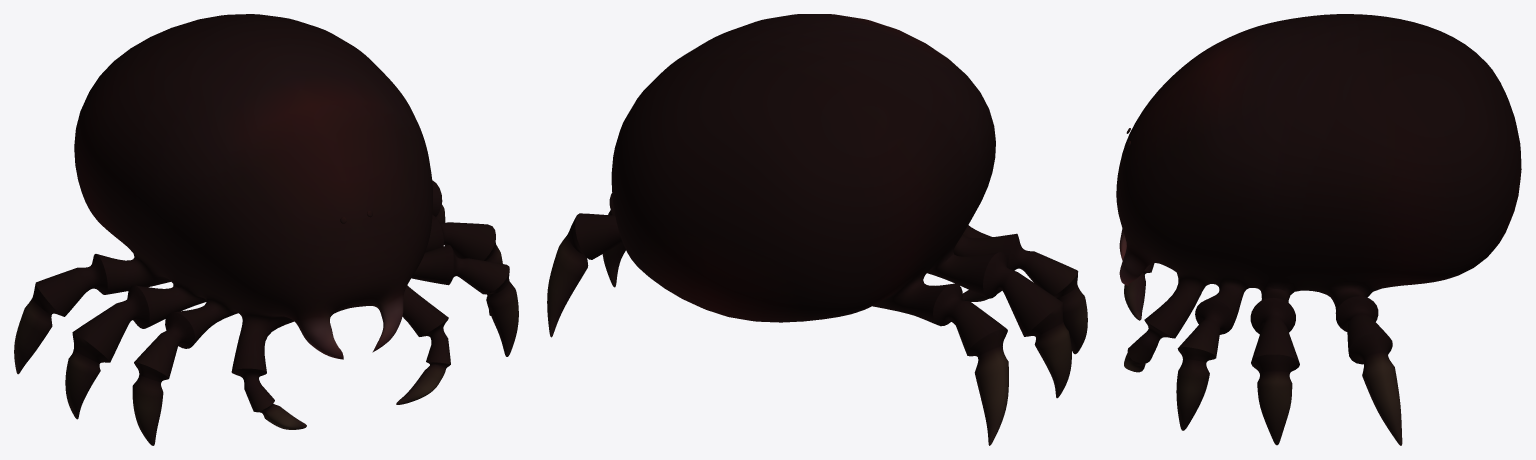
Rendered from flea_hp.fbx.
3 renders of one model, left to right at view 1: azimuth 30°, elevation 25°; view 2: azimuth 150°, elevation 25°; view 3: azimuth 270°, elevation 25°, orthographic. The views are drawn at different scales.
Parts seen in each view (by area): view 1: flea_smol; view 2: flea_smol; view 3: flea_smol.
Boxes of the visible parts, bbox=[...] form: flea_smol: bbox=[14, 14, 518, 445]; flea_smol: bbox=[547, 14, 1087, 445]; flea_smol: bbox=[1116, 14, 1521, 445].
Size of the model in its own units: 47.81 by 32.4 by 38.12.
